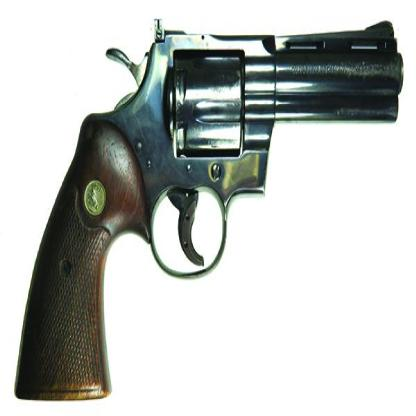handgun: (14, 10, 403, 416)
